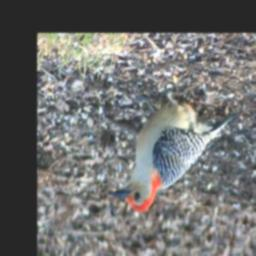Woodpecker: (110, 81, 230, 211)
